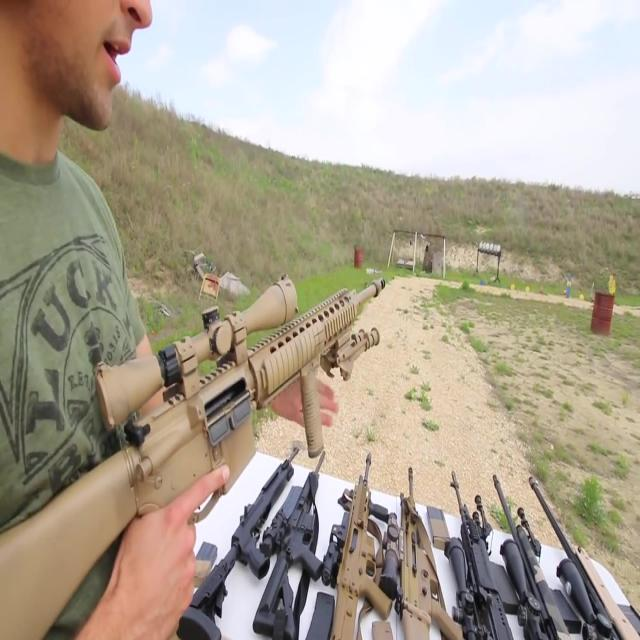Weapon: (80, 412, 640, 640), (0, 272, 407, 583)
